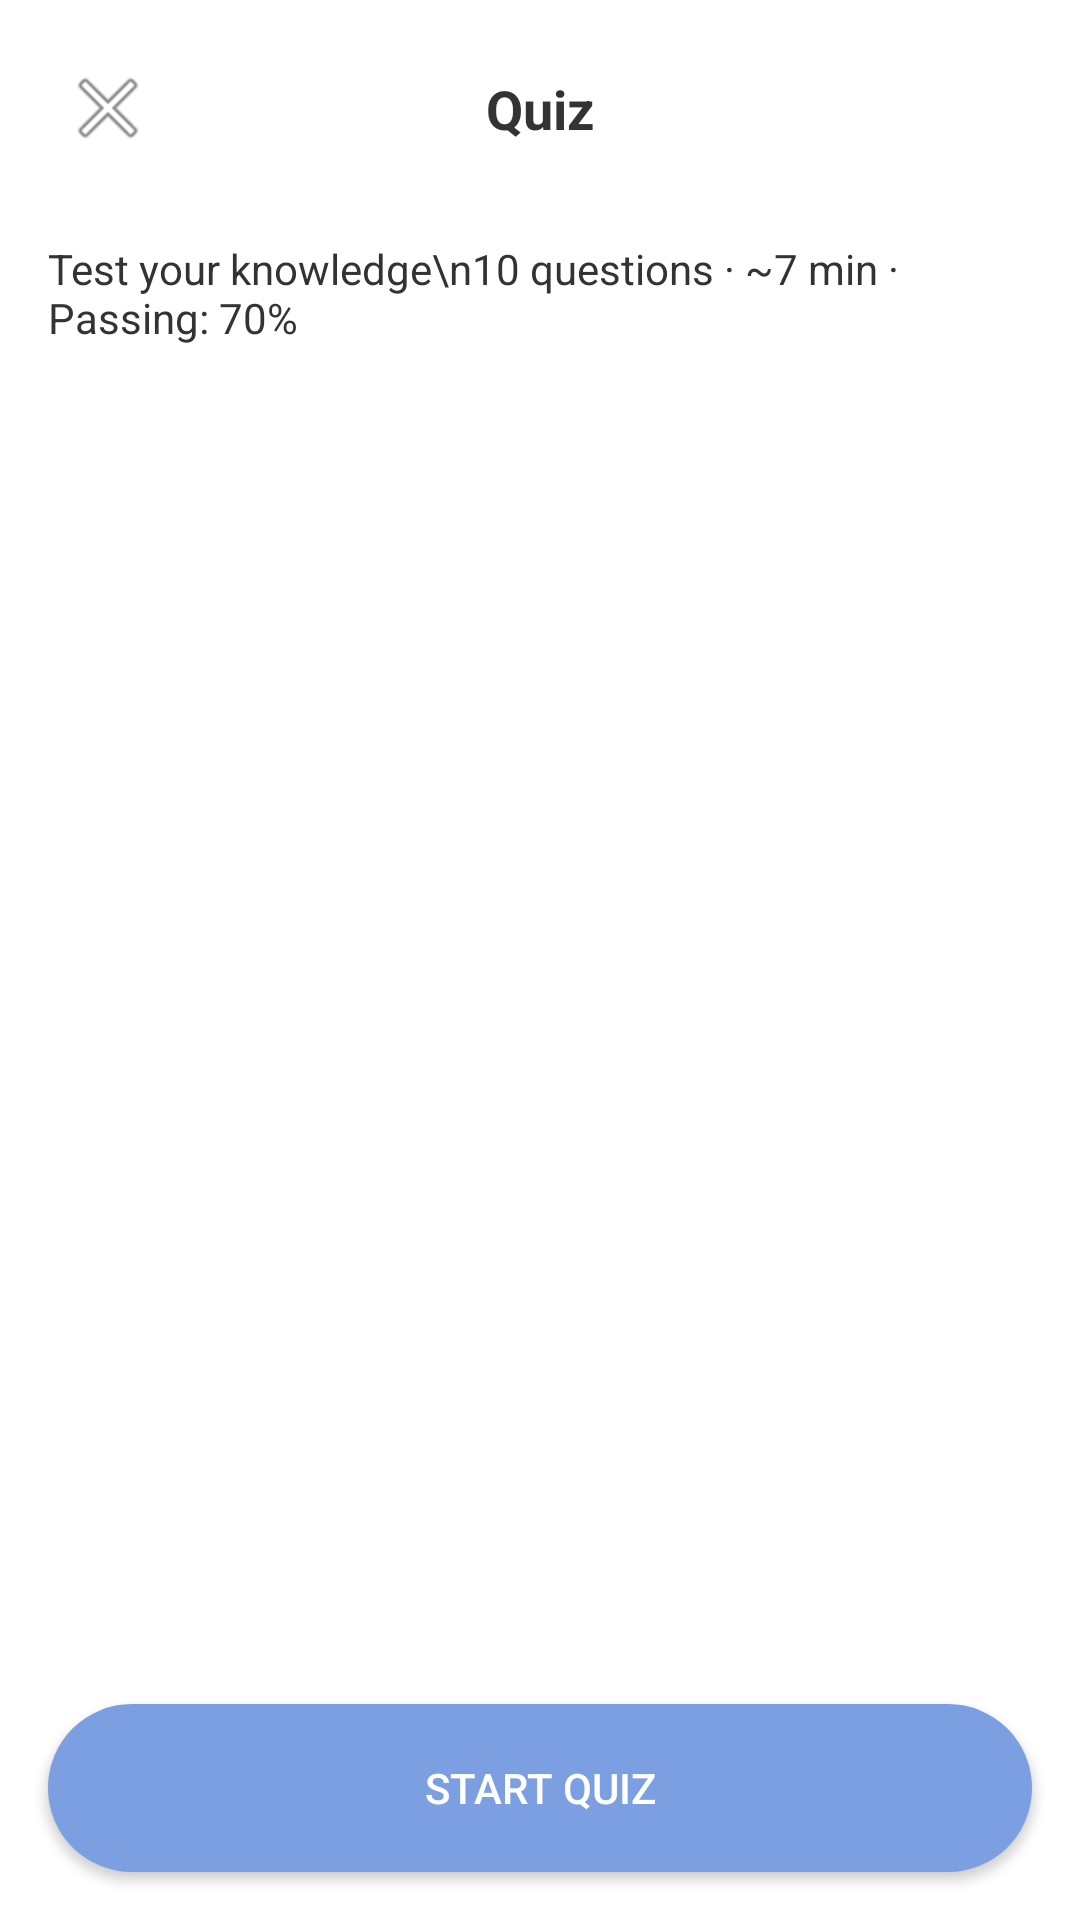

Where icons sit on this 1080×1920 app screen, as [x1=x1, y1=y1, x2=x2, y2=y2]:
Close: [x1=78, y1=78, x2=138, y2=138]
